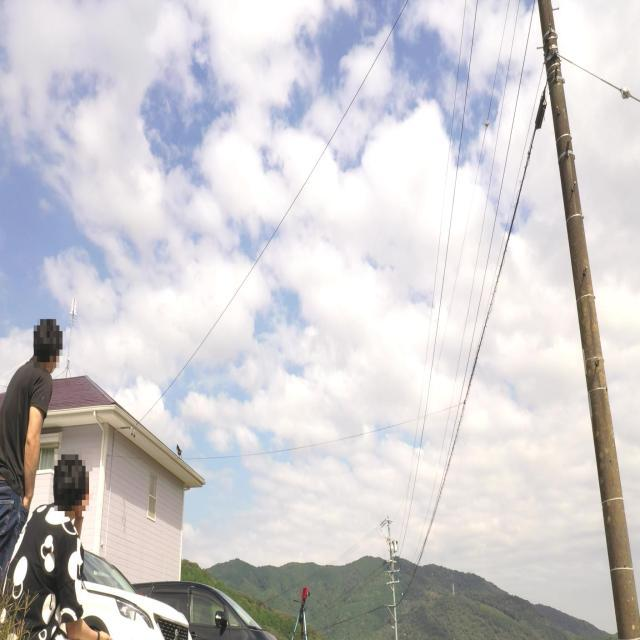Birds: (173, 440, 186, 460)
